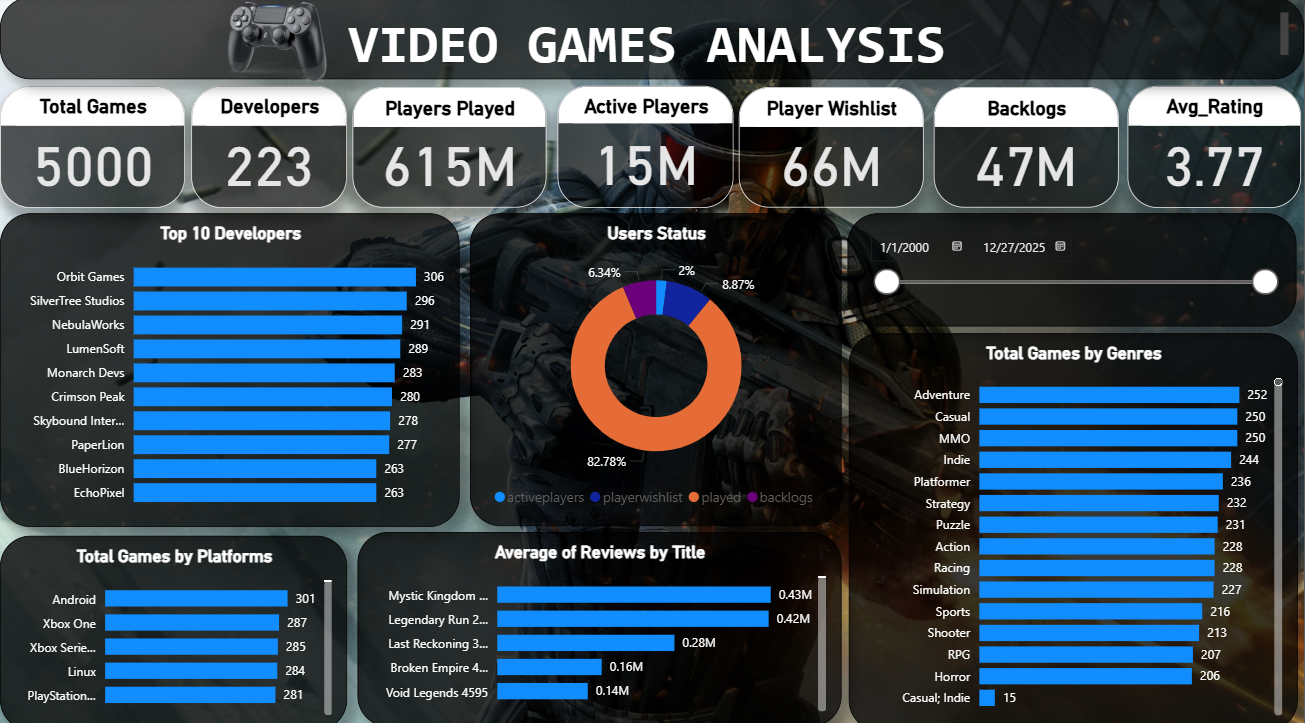

The dashboard page shown, as its layout file describes it:
{"tool":"powerbi","page":{"name":"Page 1","canvas":[1280,720],"ordinal":0},"visuals":[{"type":"card","title":"Total Games","fields":{"Values":["measure.total games"]},"box":[0,87.1,181.4,120],"z":0},{"type":"card","title":"Developers","fields":{"Values":["measure.developers"]},"box":[187.1,87.1,152.9,120],"z":1000},{"type":"card","title":"Avg_Rating","fields":{"Values":["measure.avgrating"]},"box":[1107.1,87.1,170,120],"z":2000},{"type":"textbox","box":[0,0,1279.8,81],"z":3000},{"type":"card","title":"Active Players","fields":{"Values":["measure.activeplayers"]},"box":[547.2,87.1,173,120.2],"z":4000},{"type":"card","title":"Players Played","fields":{"Values":["measure.played"]},"box":[345.7,88.6,190,118.6],"z":5000},{"type":"card","title":"Backlogs","fields":{"Values":["measure.backlogs"]},"box":[917.1,88.6,181.4,118.6],"z":6000},{"type":"card","title":"Player Wishlist","fields":{"Values":["measure.playerwishlist"]},"box":[725.7,88.6,181.4,118.6],"z":7000},{"type":"clusteredBarChart","title":"Top 10 Developers","fields":{"Y":["measure.total games"],"Category":["Sheet1.Developers"]},"box":[0,212.3,451.5,308],"z":8000},{"type":"barChart","title":"Total Games by Platforms","fields":{"Category":["Sheet1.Platforms"],"Y":["measure.total games"]},"box":[0,528.8,341.1,191.4],"z":9000},{"type":"donutChart","title":"Users Status","fields":{"Y":["measure.activeplayers","measure.playerwishlist","measure.played","measure.backlogs"]},"box":[461.2,212.5,365,307.5],"z":10000},{"type":"slicer","title":"Release date","fields":{"Values":["Sheet1.ReleaseDate"]},"box":[832.4,212.4,440.4,111.2],"z":11000},{"type":"clusteredBarChart","title":"Total Games by Genres","fields":{"Category":["Sheet1.Genres"],"Y":["measure.total games"]},"box":[833.1,330.1,440.5,390.2],"z":12000},{"type":"clusteredBarChart","fields":{"Y":["Avg(Sheet1.Reviews)"],"Category":["Sheet1.Title"]},"box":[350.9,525.2,474.8,191.4],"z":13000},{"type":"image","box":[187.5,0,167.5,88.8],"z":14000}]}

Visuals, with their boxes in screenshot pixels (x1, y1, x2, y2), scaled from the page's 1280x720 canvas onto the 1305x723 screenshot:
"Total Games" card: <bbox>0, 87, 185, 208</bbox>
"Developers" card: <bbox>191, 87, 347, 208</bbox>
"Avg_Rating" card: <bbox>1129, 87, 1302, 208</bbox>
textbox: <bbox>0, 0, 1304, 81</bbox>
"Active Players" card: <bbox>558, 87, 734, 208</bbox>
"Players Played" card: <bbox>352, 89, 546, 208</bbox>
"Backlogs" card: <bbox>935, 89, 1120, 208</bbox>
"Player Wishlist" card: <bbox>740, 89, 925, 208</bbox>
"Top 10 Developers" clusteredBarChart: <bbox>0, 213, 460, 522</bbox>
"Total Games by Platforms" barChart: <bbox>0, 531, 348, 722</bbox>
"Users Status" donutChart: <bbox>470, 213, 842, 522</bbox>
"Release date" slicer: <bbox>849, 213, 1298, 325</bbox>
"Total Games by Genres" clusteredBarChart: <bbox>849, 331, 1298, 722</bbox>
clusteredBarChart - Avg(Sheet1.Reviews) x Sheet1.Title: <bbox>358, 527, 842, 720</bbox>
image: <bbox>191, 0, 362, 89</bbox>
